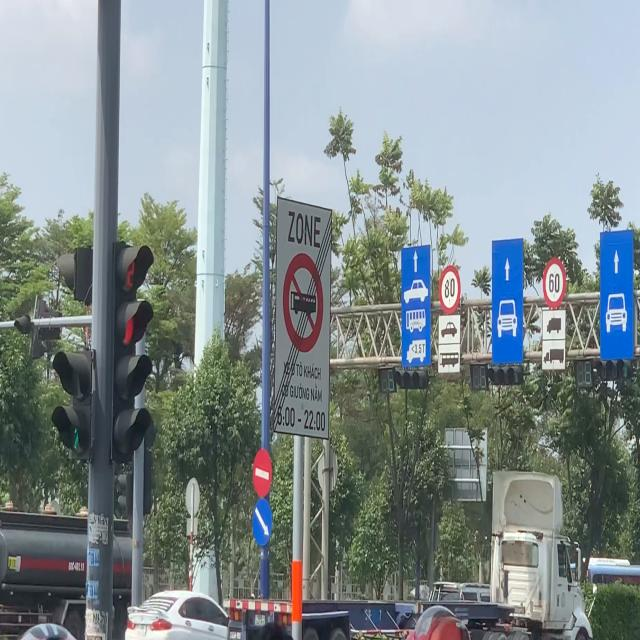Cam con lai: (283, 252, 324, 352)
Cam nguoc chieu: (252, 447, 273, 498)
Hieu lenh: (251, 496, 274, 549)
Toc do toi da: (542, 258, 566, 306), (439, 264, 462, 312)
